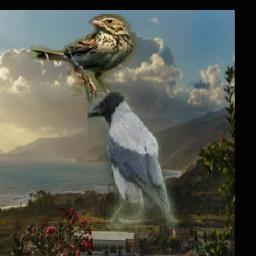Crow: (87, 89, 178, 238)
Sparrow: (29, 14, 141, 106)
